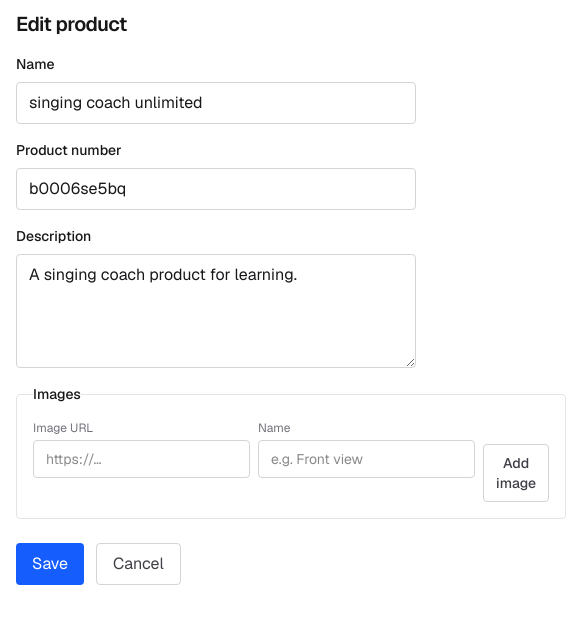
Test case: Product edit page ([name]/edit/page.tsx) › Add image shows error when URL or name is empty
The image size is (583, 634).
Click the button "Add image" at coordinates (516, 473), box [483,444,549,502]
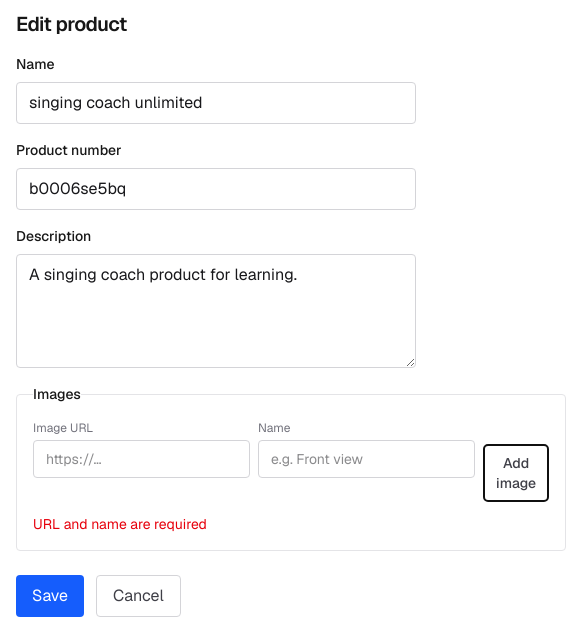
Expected: the text "URL and name are required" is shown, [33,515,207,533]
